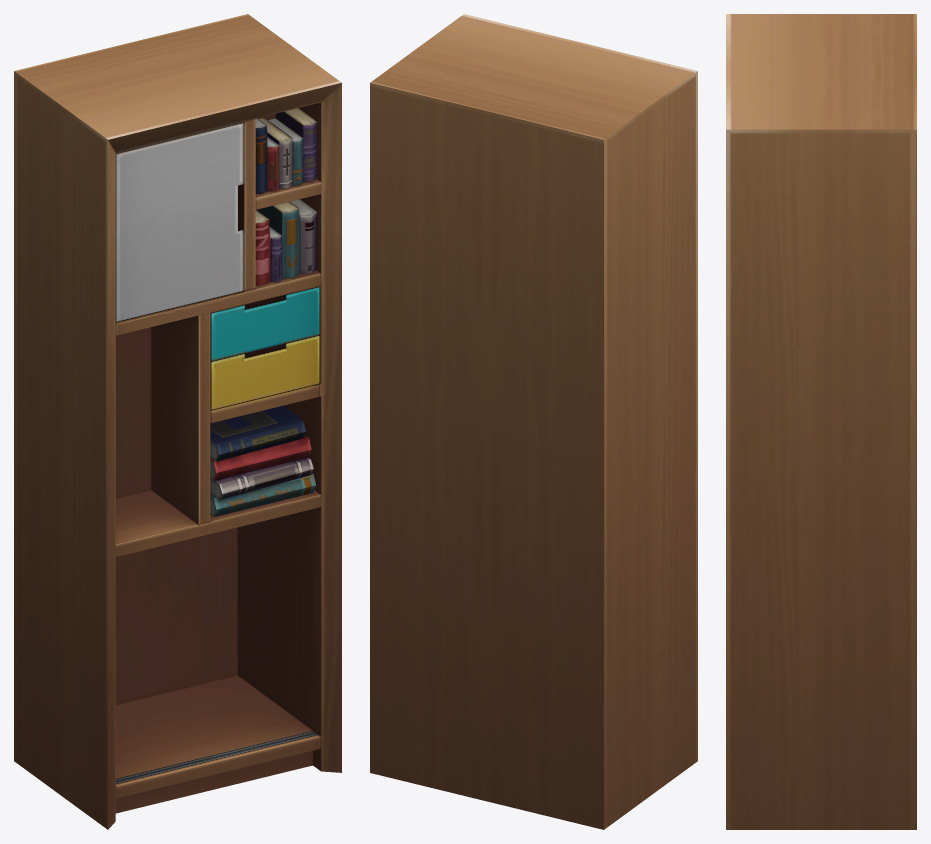
Rendered from PowerTowerBookcase.fbx.
3 views of the same model, side by side, from view 1: azimuth 30°, elevation 25°; view 2: azimuth 150°, elevation 25°; view 3: azimuth 270°, elevation 25° (orthographic).
Visible parts, largest first — view 1: TinyLiving_PowerTowerBookcase; view 2: TinyLiving_PowerTowerBookcase; view 3: TinyLiving_PowerTowerBookcase.
Boxes of the visible parts, <box> form: TinyLiving_PowerTowerBookcase: <box>14,14,341,829</box>; TinyLiving_PowerTowerBookcase: <box>370,14,697,829</box>; TinyLiving_PowerTowerBookcase: <box>726,14,916,829</box>.
Size of the model in its own units: 85 by 240 by 59.16.
